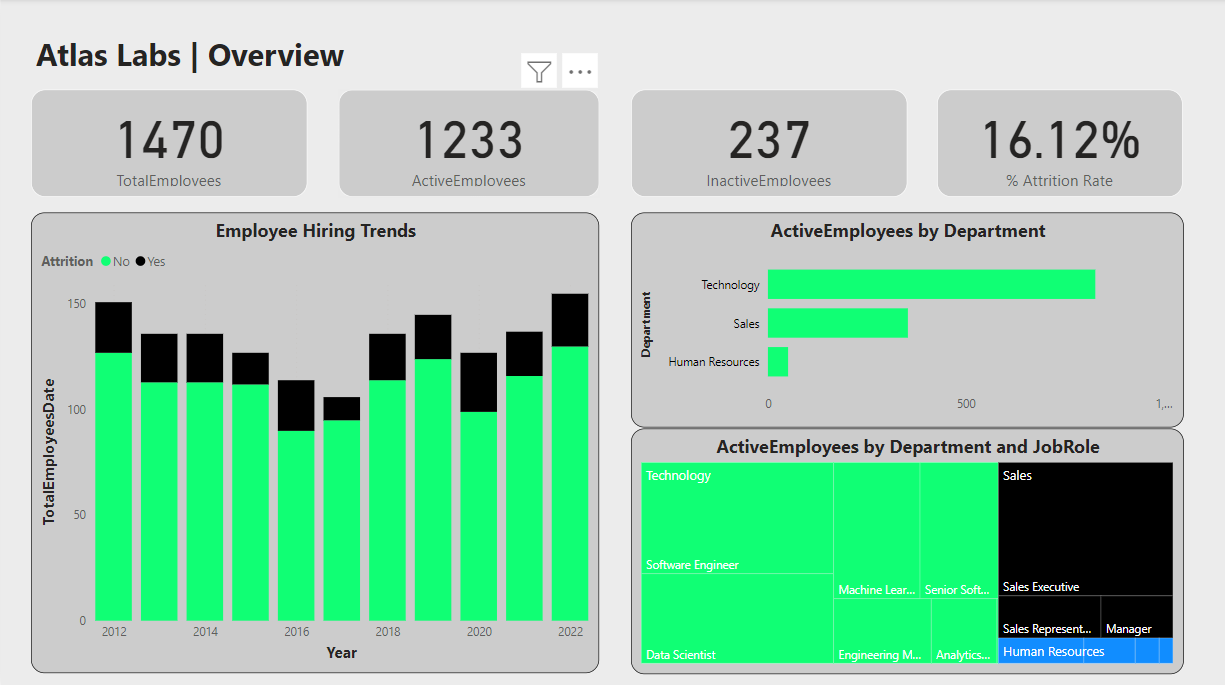

What the dashboard file says about the page in this screenshot:
{"tool":"powerbi","page":{"name":"Overview","canvas":[1280,720],"ordinal":0},"visuals":[{"type":"card","fields":{"Values":["_Measures.TotalEmployees"]},"box":[32,96,288,112],"z":0},{"type":"card","fields":{"Values":["_Measures.InactiveEmployees"]},"box":[656,96,288,112],"z":1000},{"type":"card","fields":{"Values":["_Measures.ActiveEmployees"]},"box":[352,96,272,112],"z":2000},{"type":"card","fields":{"Values":["_Measures.% Attrition Rate"]},"box":[976,96,256,112],"z":3000},{"type":"columnChart","title":"Employee Hiring Trends","fields":{"Y":["_Measures.TotalEmployeesDate"],"Category":["DimDate.MonthEnd.Variation.Date Hierarchy.Year"],"Series":["DimEmployee.Attrition"]},"box":[32,224,592,480],"z":4000},{"type":"clusteredBarChart","fields":{"Category":["DimEmployee.Department"],"Y":["_Measures.ActiveEmployees"]},"box":[656,224,576,224],"z":5000},{"type":"treemap","fields":{"Values":["_Measures.ActiveEmployees"],"Group":["DimEmployee.Department"],"Details":["DimEmployee.JobRole"]},"box":[656,448,576,256],"z":6000},{"type":"textbox","box":[32,32,352,64],"z":7000}]}

Visuals, with their boxes in screenshot pixels (x1, y1, x2, y2), scaled from the page's 1280x720 canvas onto the 1225x685 screenshot:
card - _Measures.TotalEmployees: <region>31, 91, 306, 198</region>
card - _Measures.InactiveEmployees: <region>628, 91, 903, 198</region>
card - _Measures.ActiveEmployees: <region>337, 91, 597, 198</region>
card - _Measures.% Attrition Rate: <region>934, 91, 1179, 198</region>
"Employee Hiring Trends" columnChart: <region>31, 213, 597, 670</region>
clusteredBarChart - DimEmployee.Department x _Measures.ActiveEmployees: <region>628, 213, 1179, 426</region>
treemap - _Measures.ActiveEmployees x DimEmployee.Department: <region>628, 426, 1179, 670</region>
textbox: <region>31, 30, 368, 91</region>
